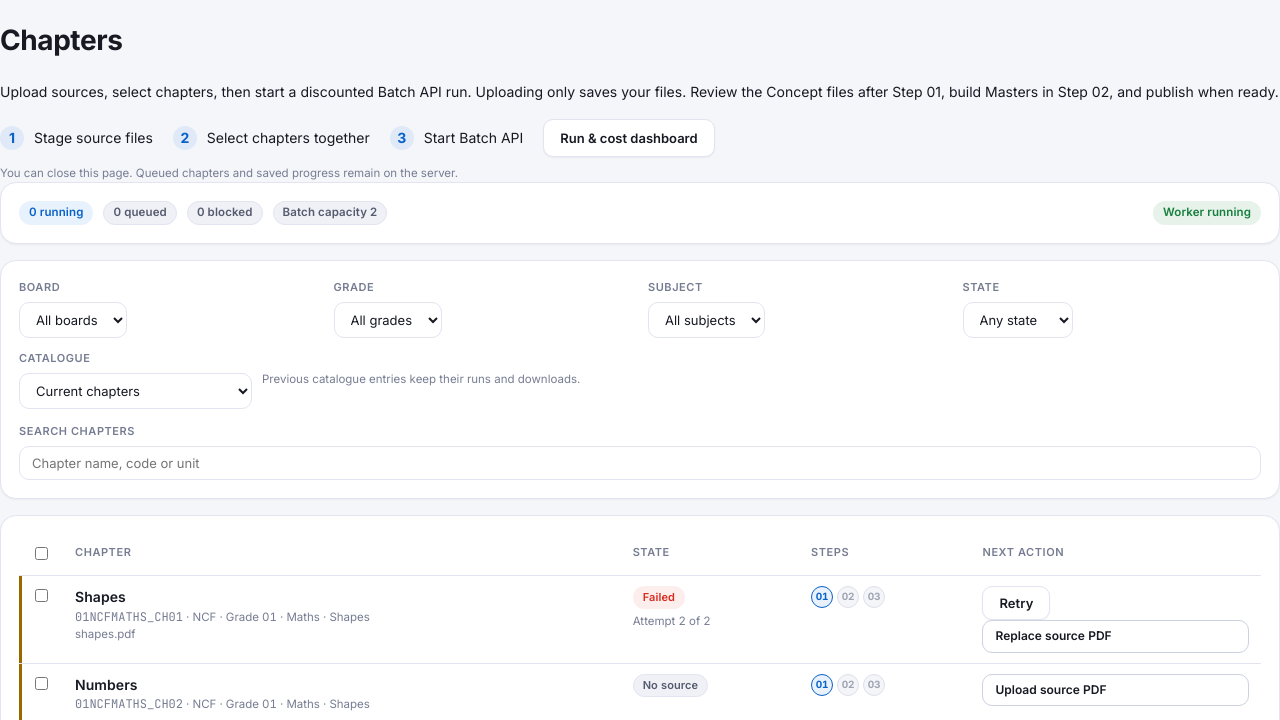
it: Clear forgets a selection made on another page too
The width and height of the screenshot is (1280, 720).
Expected: the button "Shapes" is shown, left=75, top=586, right=126, bottom=608
Click the checkbox named "Select Shapes".
click(42, 596)  # box left=35, top=589, right=48, bottom=602
(page scrolled)
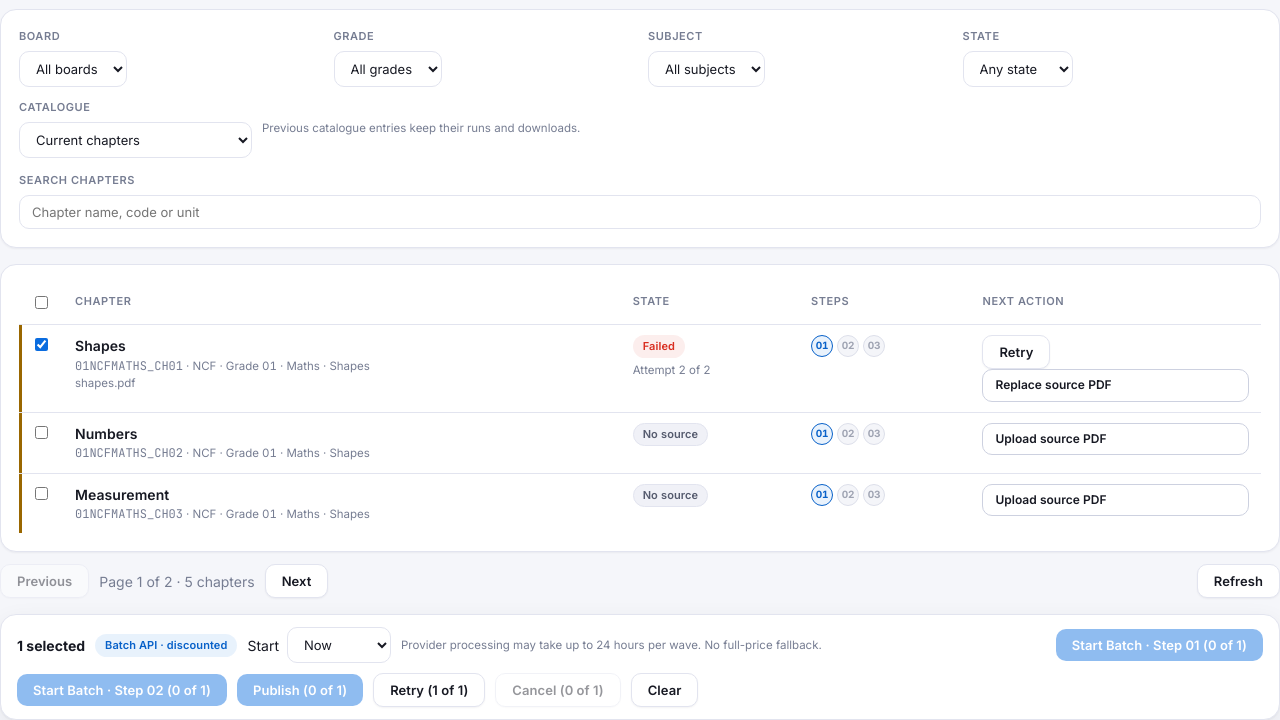
Click the button "Next".
click(296, 581)  # box left=265, top=564, right=328, bottom=598
(page scrolled)
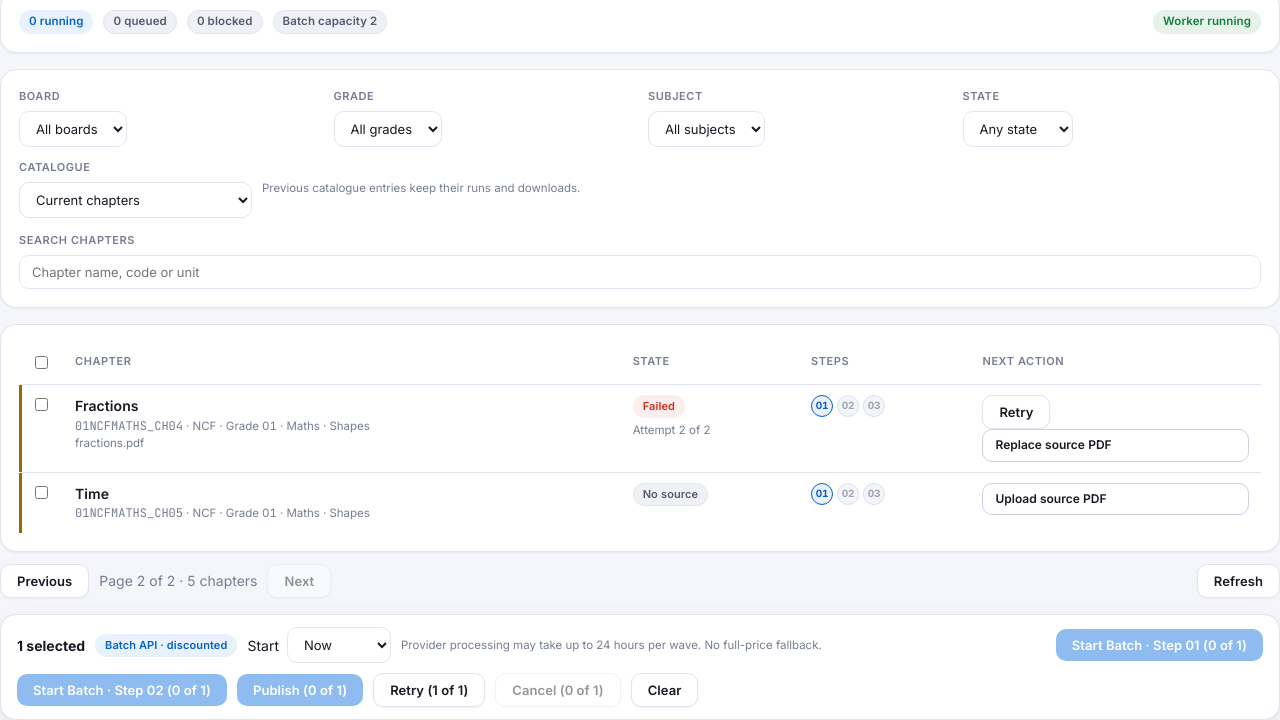
Result: the button "Fractions" is shown at left=75, top=395, right=139, bottom=417
Click the button "Clear".
click(665, 690)  # box left=631, top=672, right=698, bottom=706
(page scrolled)
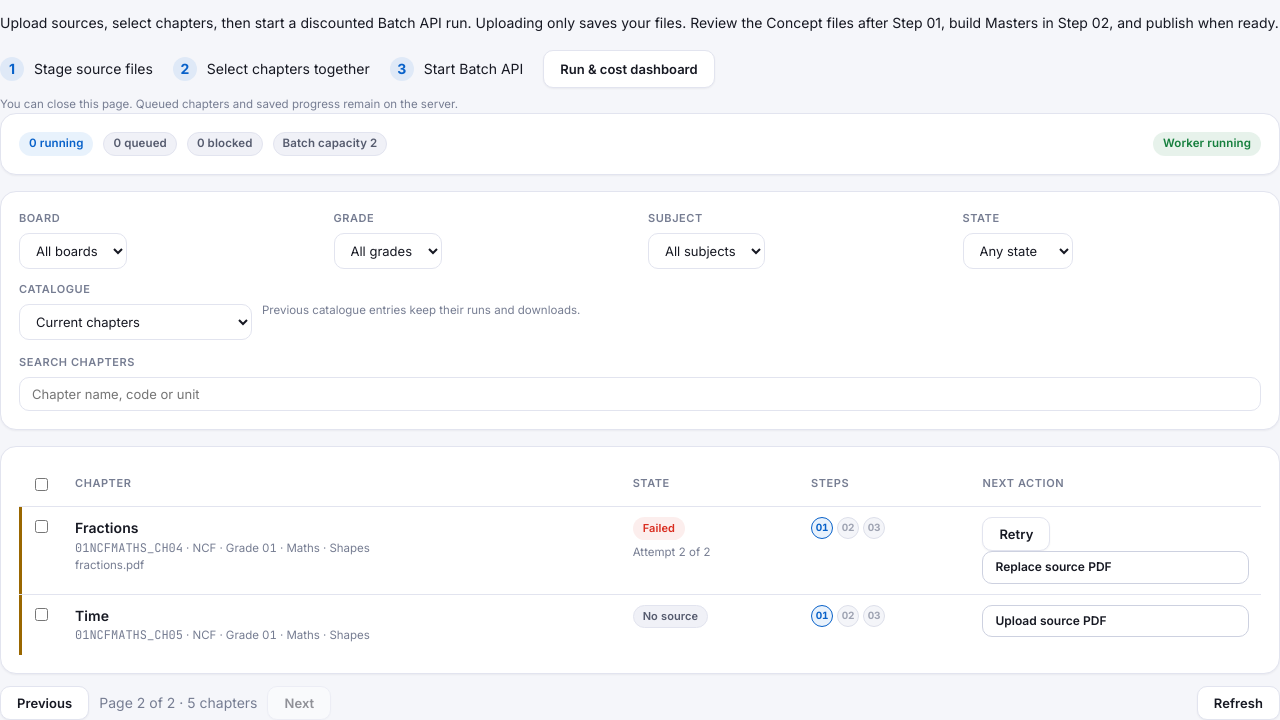
Result: the element with test id "chapter-actionbar" is gone
// Back on page 1 the row is unselected: nothing lingers in the memory.
Click the button "Previous".
click(45, 702)  # box left=0, top=686, right=89, bottom=719
(page scrolled)
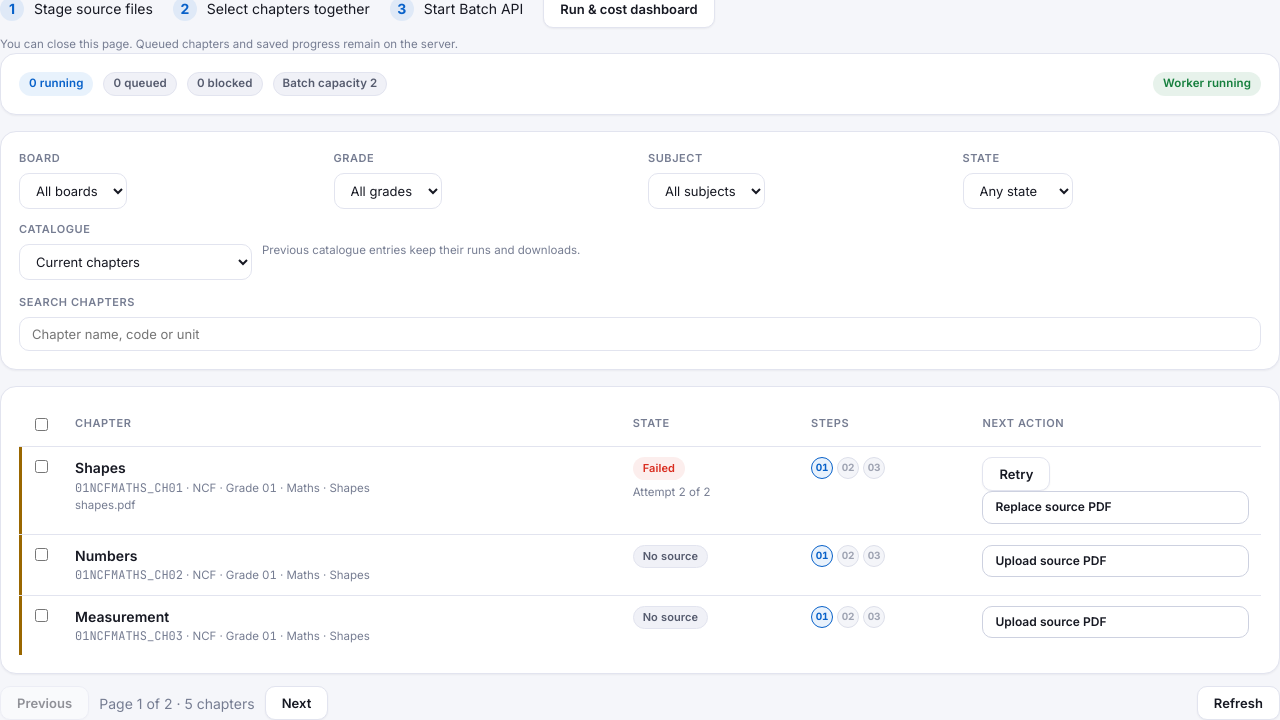
Result: the button "Shapes" is shown at left=75, top=457, right=126, bottom=479
